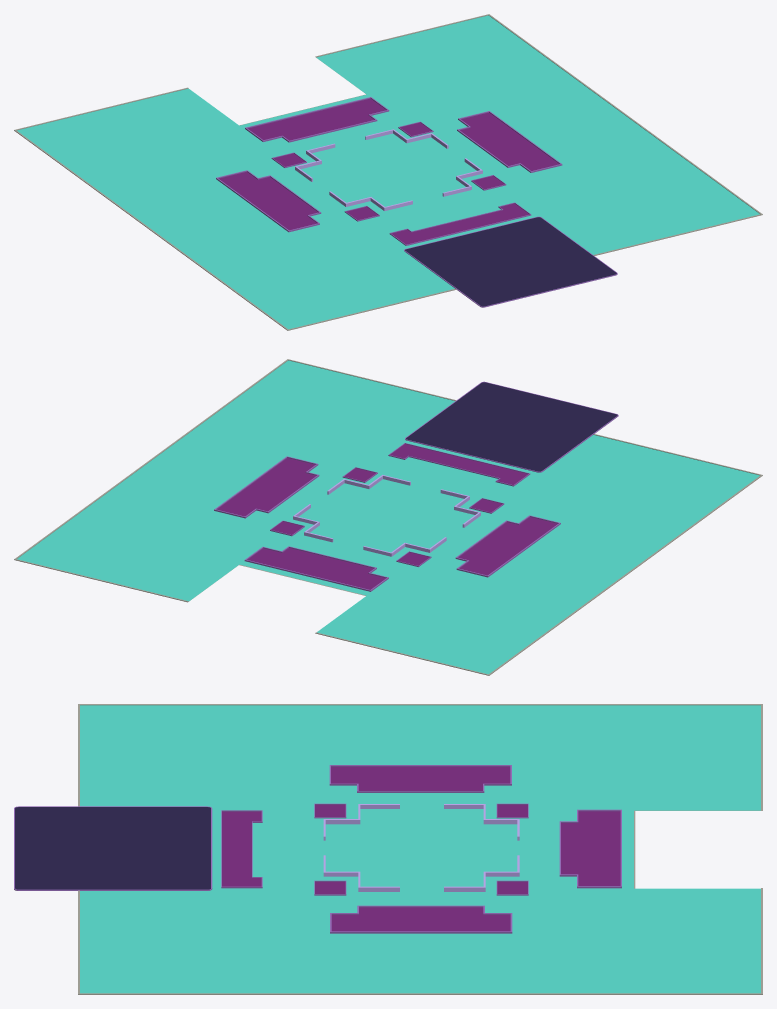
File: Terrain_D4.fbx
3 views of the same model, one above another, from view 1: azimuth 30°, elevation 25°; view 2: azimuth 150°, elevation 25°; view 3: azimuth 270°, elevation 25° (orthographic). The views are drawn at different scales.
Visible parts, largest first — view 1: Plane.973, Plane.980, Plane.013, Plane.012, Plane.006, Plane.014, Plane.1050; view 2: Plane.973, Plane.980, Plane.013, Plane.012, Plane.006, Plane.014, Plane.1050; view 3: Plane.973, Plane.980, Plane.012, Plane.006, Plane.013, Plane.014, Plane.1050, Plane.1055, Plane.1057, Plane.1051, Plane.1056.
Boxes of the visible parts, x1,y1,x2,y2 form: Plane.973: (14,14,762,330); Plane.980: (404,216,617,307); Plane.013: (245,97,389,142); Plane.012: (457,111,562,172); Plane.006: (216,170,321,232); Plane.014: (389,202,531,245); Plane.1050: (295,129,482,211); Plane.973: (14,359,762,675); Plane.980: (405,381,618,472); Plane.013: (244,546,388,591); Plane.012: (214,456,319,518); Plane.006: (455,515,560,577); Plane.014: (388,443,530,486); Plane.1050: (293,475,480,556); Plane.973: (78,704,762,994); Plane.980: (14,806,212,890); Plane.012: (330,905,512,933); Plane.006: (329,765,511,792); Plane.013: (559,809,621,888); Plane.014: (221,810,262,888); Plane.1050: (323,804,519,891); Plane.1055: (314,880,346,895); Plane.1057: (496,880,528,895); Plane.1051: (314,803,346,818); Plane.1056: (496,803,528,818).
Size of what is drawn, in the model's own units: 47662 by 353 by 52002.
Materials: 4 (2 with a texture image).
